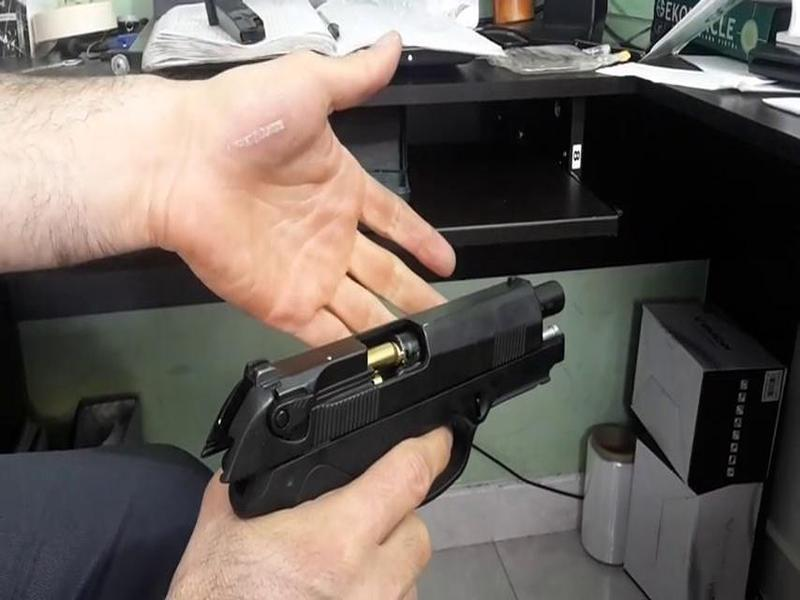Pistola: (172, 274, 579, 545)
